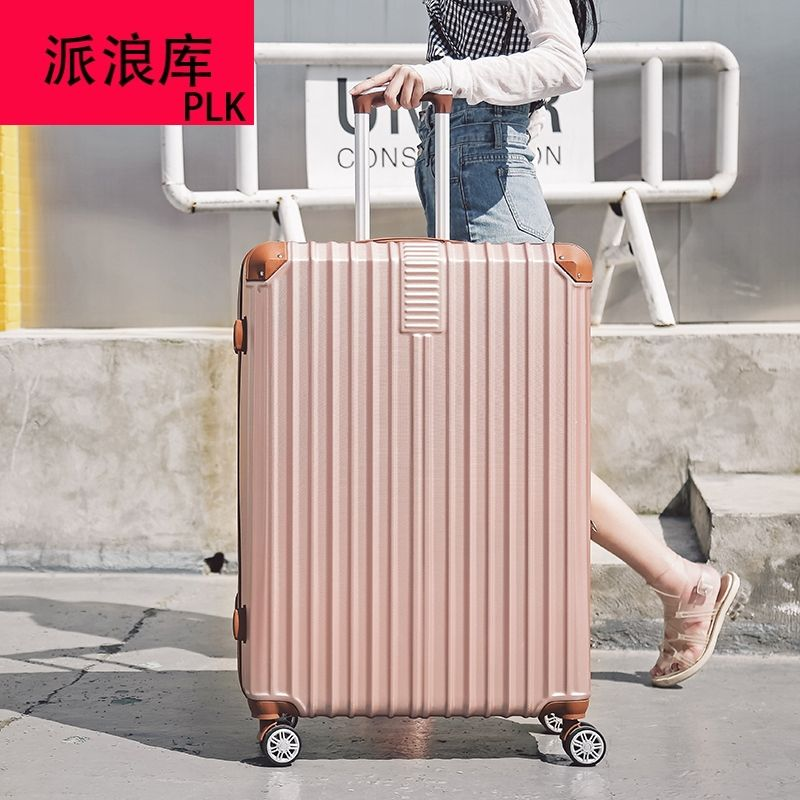box: (241, 242, 592, 718)
wheel: (560, 721, 607, 766), (259, 725, 302, 766)
